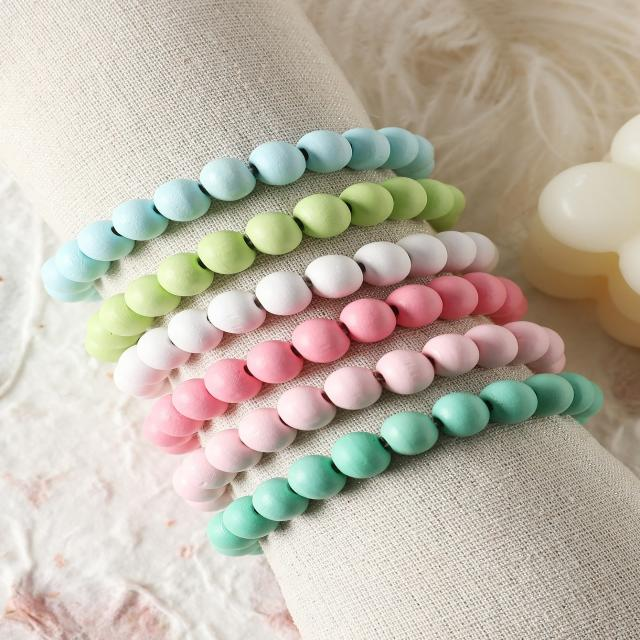bracelet: (0, 75, 640, 600)
